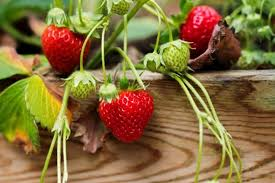ripe: (101, 85, 157, 147), (37, 20, 92, 74), (179, 1, 227, 47)
unripe: (163, 38, 194, 79), (67, 72, 101, 107), (107, 1, 135, 21)
